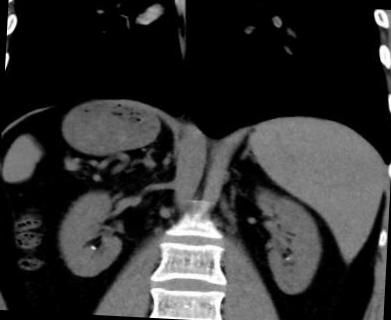Tas_Var: (283, 256, 294, 262), (90, 245, 96, 252)
